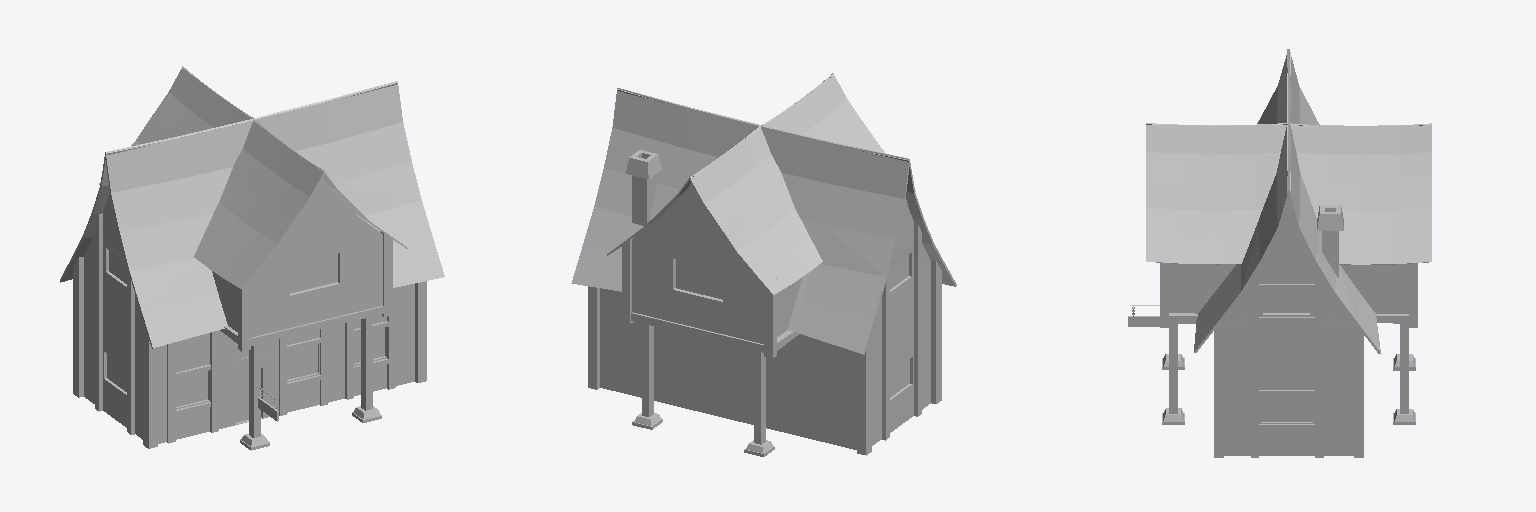
The model's file is Medieval_Inn.obj.
The picture shows the model from 3 angles: view 1: azimuth 30°, elevation 25°; view 2: azimuth 150°, elevation 25°; view 3: azimuth 270°, elevation 25°; orthographic projection.
Parts seen in each view (by area): view 1: Medieval__Inn_Cube.003; view 2: Medieval__Inn_Cube.003; view 3: Medieval__Inn_Cube.003.
Boxes of the visible parts, x1=… form: Medieval__Inn_Cube.003: x1=60, y1=66, x2=444, y2=450; Medieval__Inn_Cube.003: x1=571, y1=73, x2=956, y2=456; Medieval__Inn_Cube.003: x1=1128, y1=49, x2=1431, y2=457.
Size of the model in its own units: 5.19 by 4.63 by 4.67.